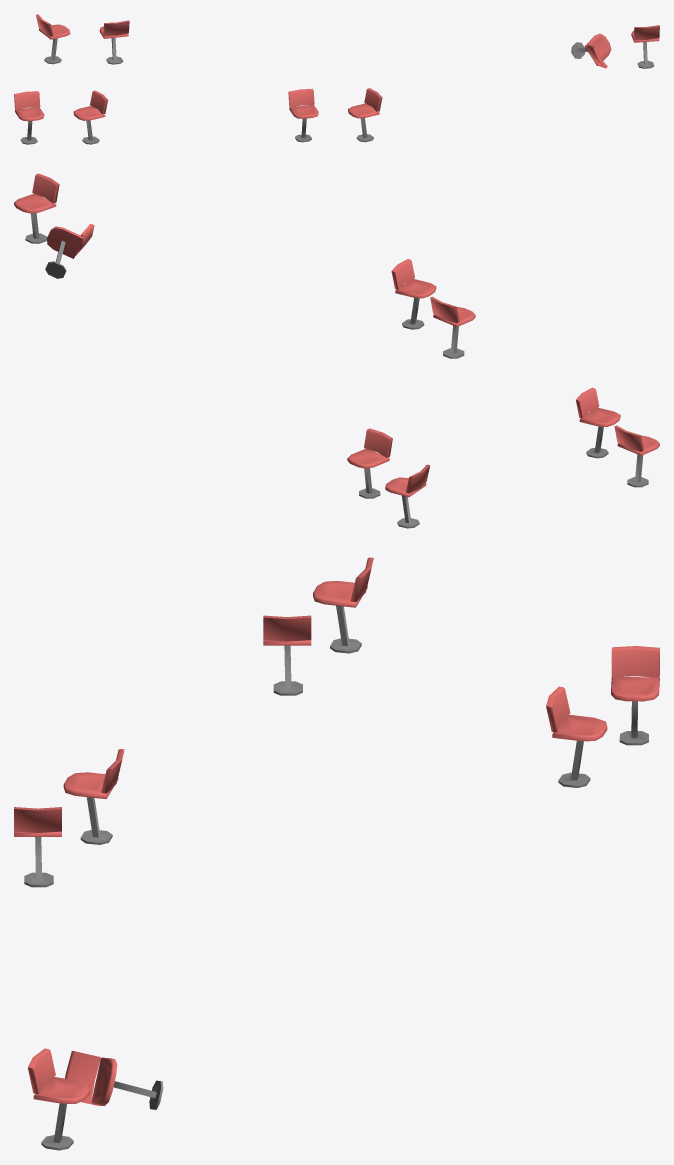
The model's file is tabouret bar.fbx.
The picture shows the model from 3 angles, top to bottom: view 1: azimuth 30°, elevation 25°; view 2: azimuth 150°, elevation 25°; view 3: azimuth 270°, elevation 25°; orthographic projection. The views are drawn at different scales.
Visible parts, largest first — view 1: MSH_tabouret_bar_01__1_, MSH_tabouret_bar_01__5_, MSH_tabouret_bar_01__4_, MSH_tabouret_bar_01, MSH_tabouret_bar_01__2_, MSH_tabouret_bar_01__6_, MSH_tabouret_bar_01__7_, MSH_tabouret_bar_01__3_; view 2: MSH_tabouret_bar_01__7_, MSH_tabouret_bar_01__3_, MSH_tabouret_bar_01, MSH_tabouret_bar_01__4_, MSH_tabouret_bar_01__2_, MSH_tabouret_bar_01__1_, MSH_tabouret_bar_01__5_, MSH_tabouret_bar_01__6_; view 3: MSH_tabouret_bar_01__6_, MSH_tabouret_bar_01__3_, MSH_tabouret_bar_01__7_, MSH_tabouret_bar_01__2_, MSH_tabouret_bar_01__4_, MSH_tabouret_bar_01__5_, MSH_tabouret_bar_01__1_, MSH_tabouret_bar_01.
Boxes of the visible parts, x1=… form: MSH_tabouret_bar_01__1_: x1=288, y1=88, x2=318, y2=142; MSH_tabouret_bar_01__5_: x1=14, y1=91, x2=44, y2=144; MSH_tabouret_bar_01__4_: x1=73, y1=90, x2=107, y2=144; MSH_tabouret_bar_01: x1=348, y1=88, x2=382, y2=142; MSH_tabouret_bar_01__2_: x1=571, y1=33, x2=611, y2=68; MSH_tabouret_bar_01__6_: x1=36, y1=14, x2=70, y2=64; MSH_tabouret_bar_01__7_: x1=99, y1=20, x2=129, y2=64; MSH_tabouret_bar_01__3_: x1=631, y1=25, x2=659, y2=68; MSH_tabouret_bar_01__7_: x1=347, y1=428, x2=392, y2=498; MSH_tabouret_bar_01__3_: x1=14, y1=173, x2=59, y2=243; MSH_tabouret_bar_01: x1=391, y1=259, x2=436, y2=329; MSH_tabouret_bar_01__4_: x1=576, y1=387, x2=620, y2=458; MSH_tabouret_bar_01__2_: x1=45, y1=224, x2=94, y2=278; MSH_tabouret_bar_01__1_: x1=430, y1=296, x2=475, y2=358; MSH_tabouret_bar_01__5_: x1=614, y1=425, x2=659, y2=487; MSH_tabouret_bar_01__6_: x1=385, y1=464, x2=429, y2=528; MSH_tabouret_bar_01__6_: x1=611, y1=646, x2=659, y2=745; MSH_tabouret_bar_01__3_: x1=27, y1=1048, x2=90, y2=1150; MSH_tabouret_bar_01__7_: x1=546, y1=686, x2=607, y2=787; MSH_tabouret_bar_01__2_: x1=65, y1=1051, x2=163, y2=1109; MSH_tabouret_bar_01__4_: x1=263, y1=615, x2=311, y2=695; MSH_tabouret_bar_01__5_: x1=313, y1=557, x2=373, y2=653; MSH_tabouret_bar_01__1_: x1=63, y1=749, x2=124, y2=844; MSH_tabouret_bar_01: x1=14, y1=807, x2=61, y2=887.
Size of the model in its own units: 19.97 by 1.54 by 10.5.
